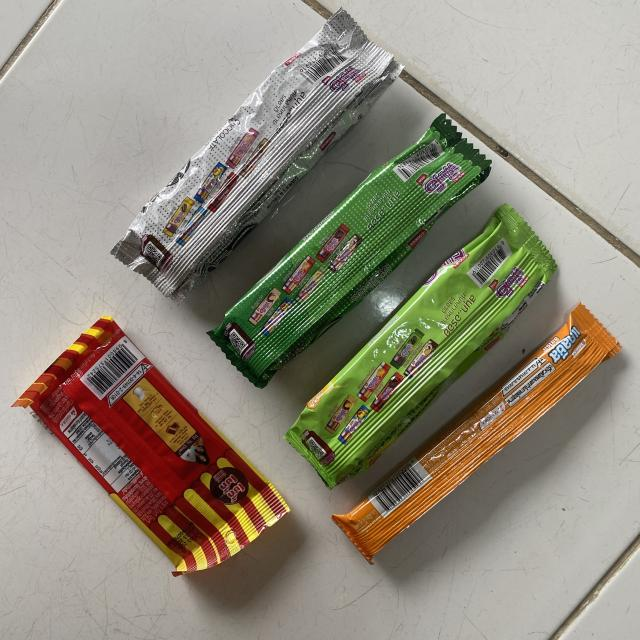plastik: (111, 10, 402, 301), (209, 114, 491, 388), (285, 204, 556, 488), (332, 304, 620, 562), (12, 316, 289, 575)
